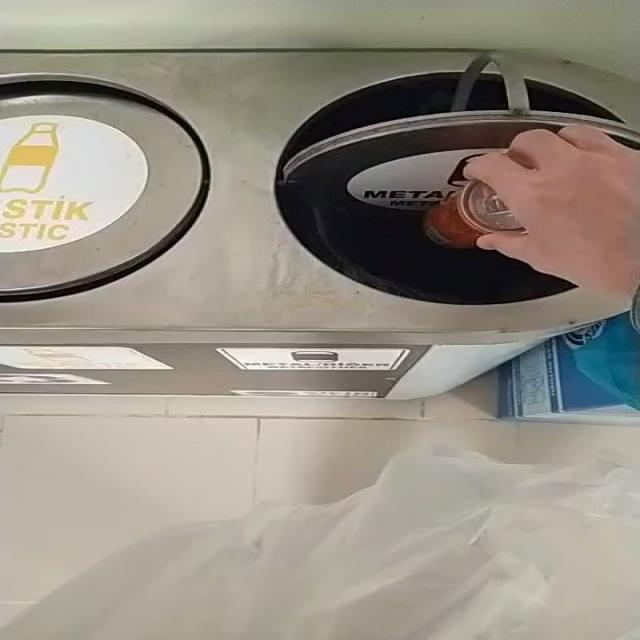bin: (0, 51, 640, 400)
metal: (424, 180, 525, 248)
